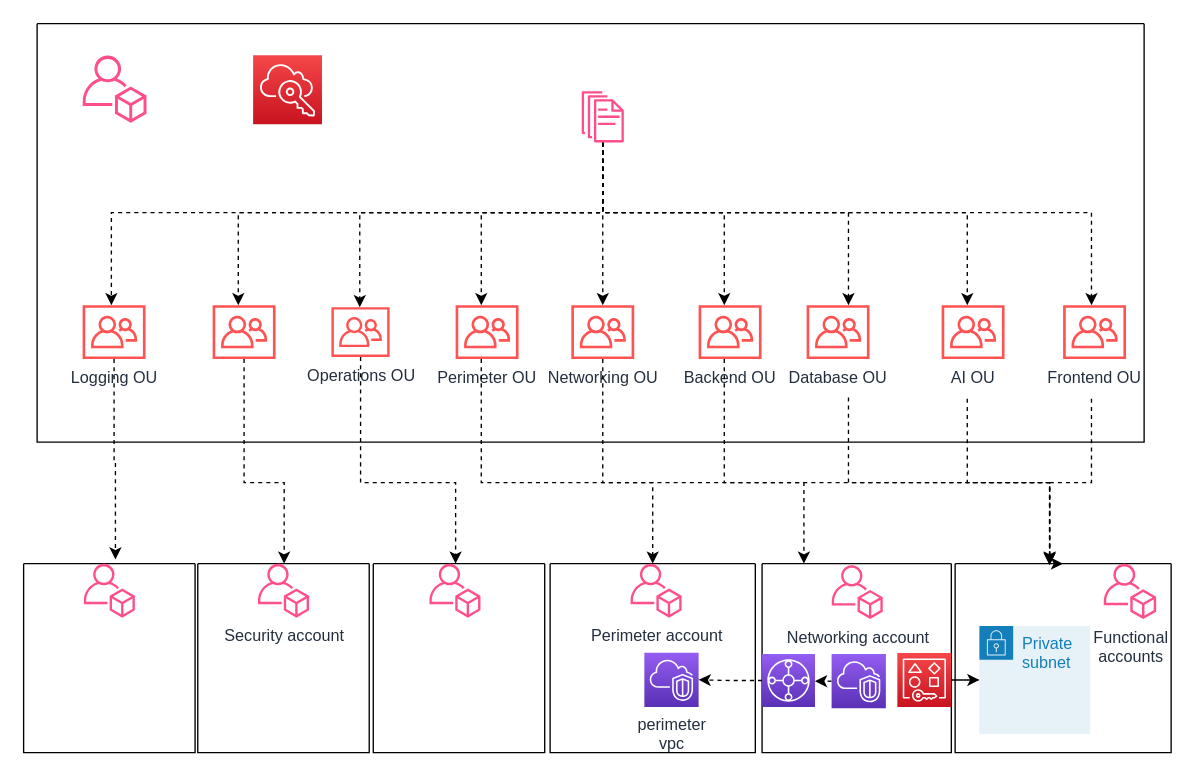
Some shapes in this 1195 by 780 pixel diagram are drawn without their labels. The centre of each missing label's shape, as x and y in pixels:
AWS Single Sign-On: point 287,89
Logging archiver: point 108,590
networking vpc: point 858,680
Operations account: point 454,590
Organization (root) management account: point 114,88
Security OU: point 243,331
Service Control Policies: point 602,116
